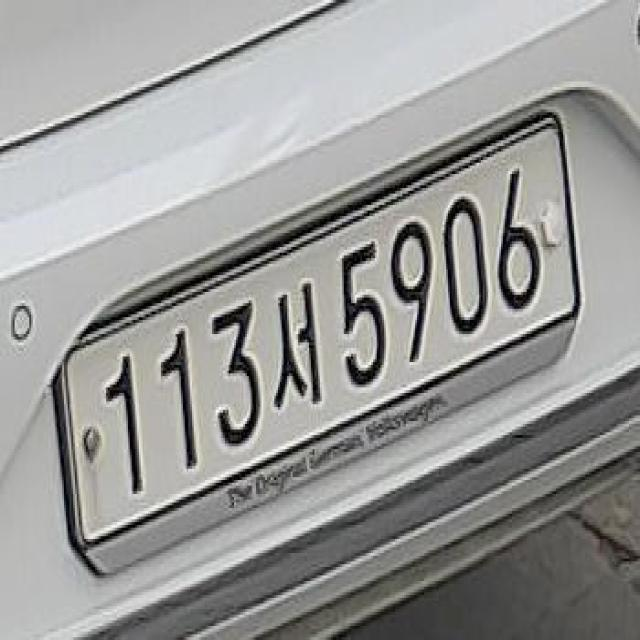illegal_plate: (56, 120, 580, 560)
